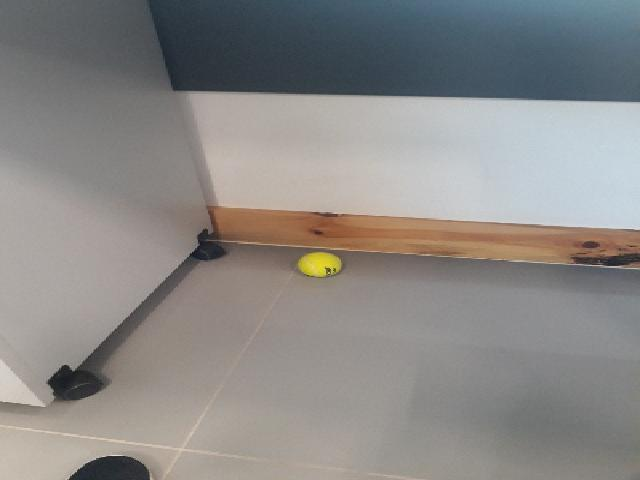Ball: (296, 252, 338, 276)
